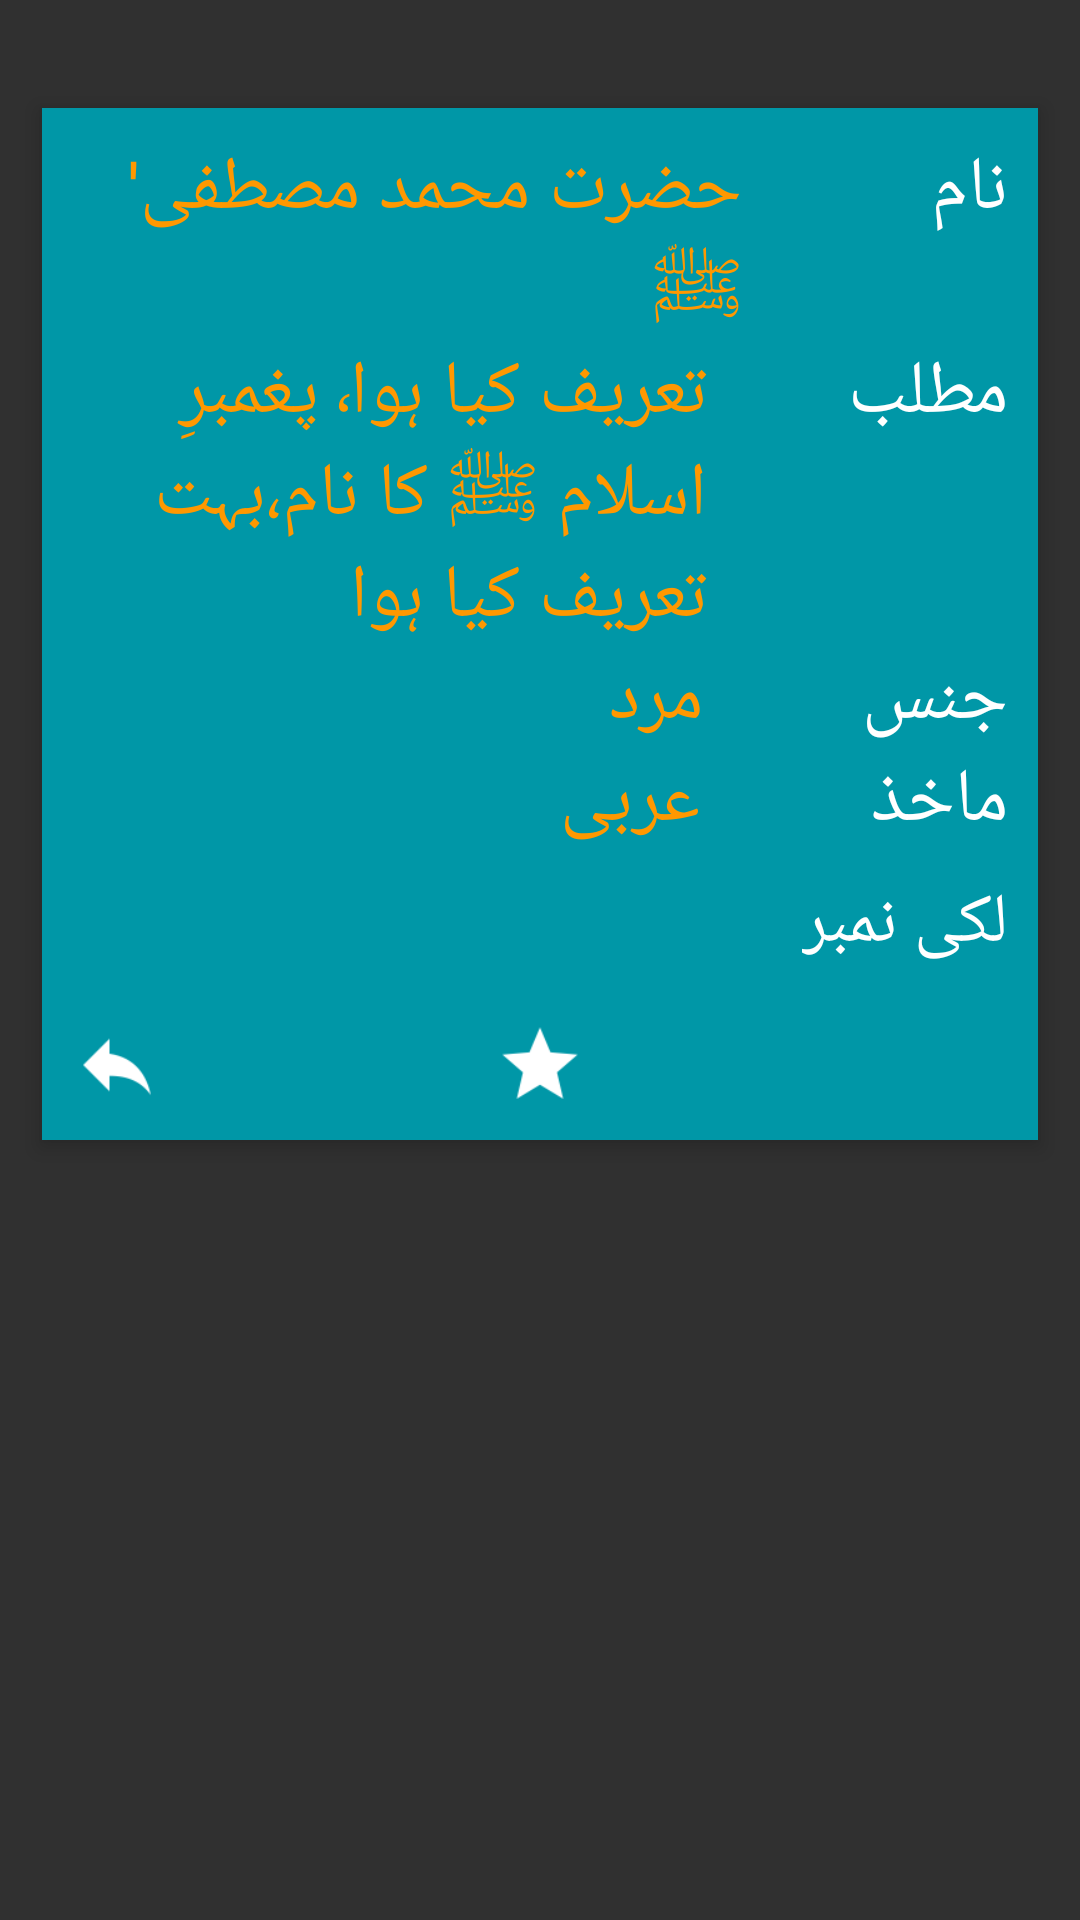

Icons on this 1080×1920 Android screen, each with the point to tap as (x=x, y=y):
favselector: (x=540, y=1063)
